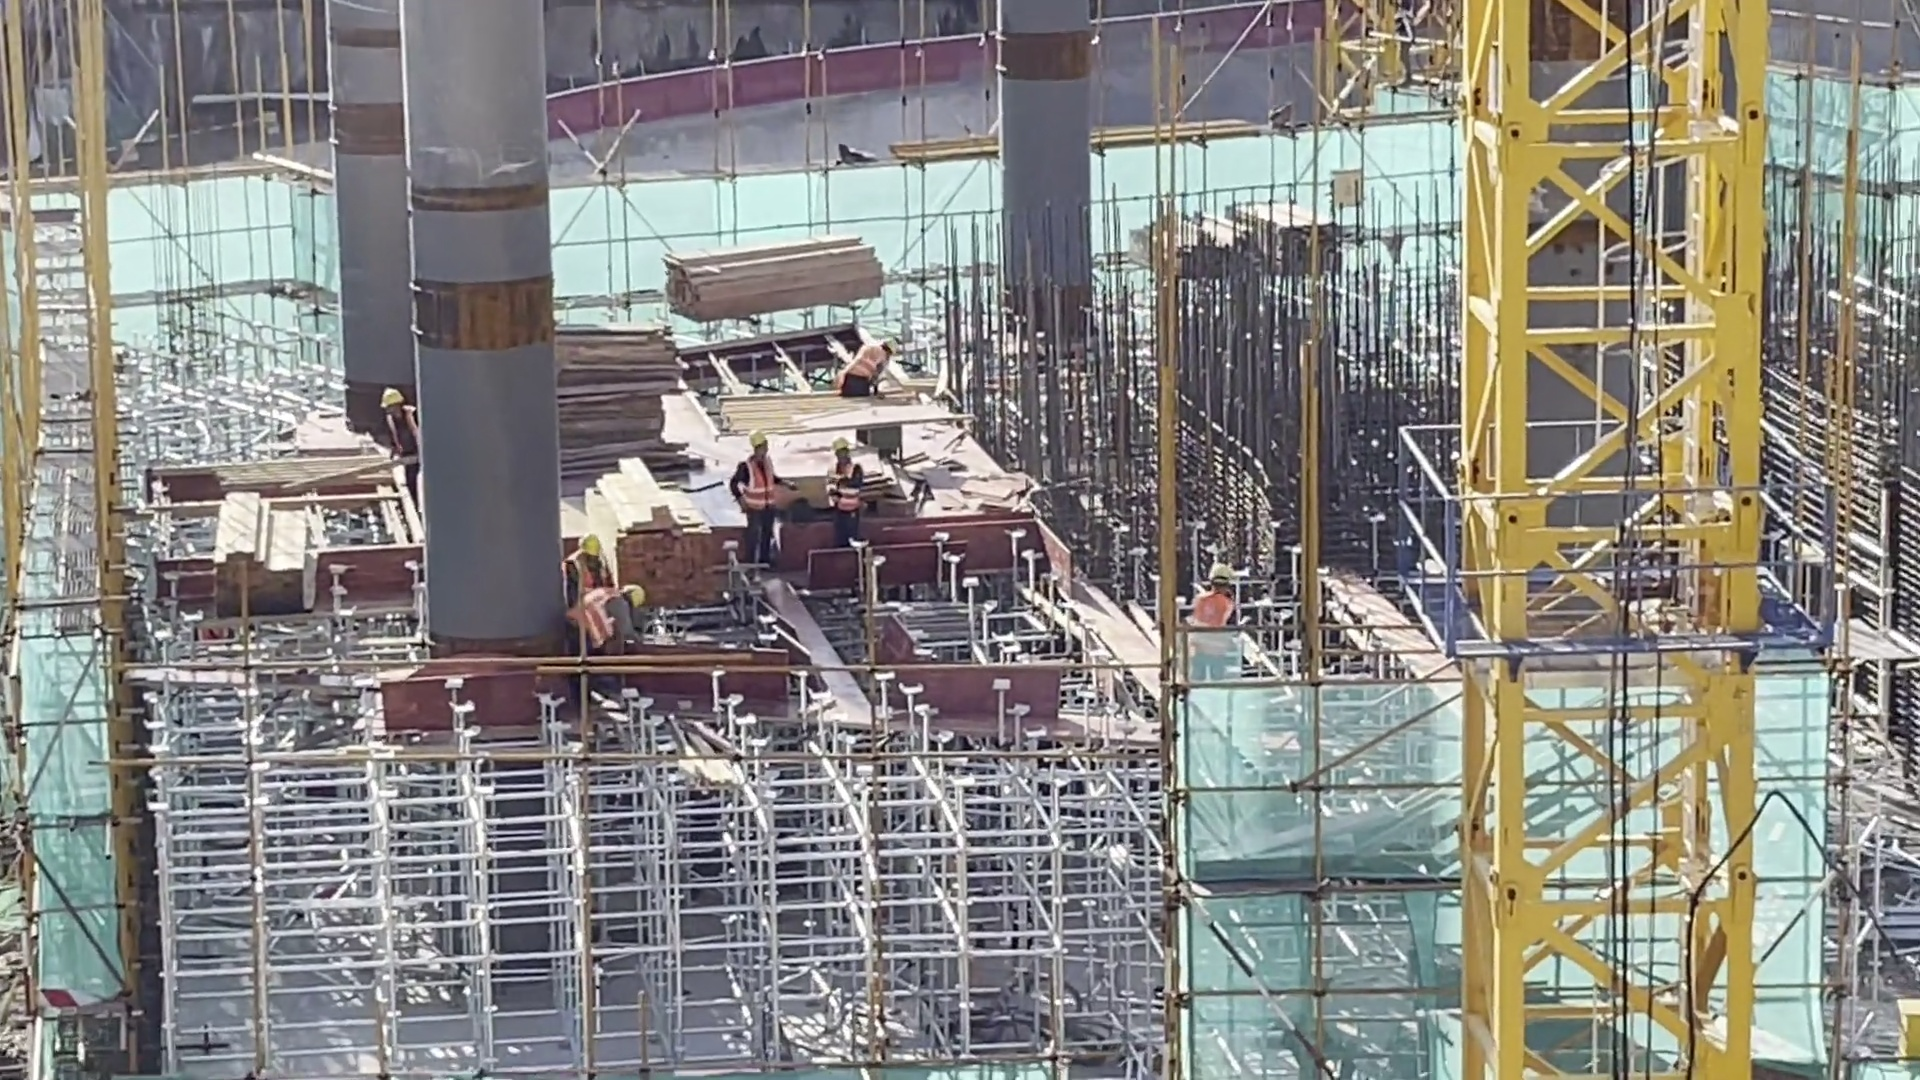cutter: (797, 395, 966, 449)
helmet: (622, 582, 647, 609), (578, 533, 604, 556), (1206, 563, 1232, 584), (746, 428, 769, 451), (381, 387, 405, 407), (829, 438, 847, 455)
person: (734, 425, 782, 569), (573, 585, 643, 665), (1189, 564, 1240, 666), (822, 435, 865, 547), (377, 387, 415, 484), (837, 338, 899, 393), (568, 533, 609, 607)
vest: (737, 453, 774, 511), (574, 591, 612, 645), (1195, 592, 1236, 633), (844, 343, 888, 379), (828, 468, 862, 513)
wood: (543, 320, 692, 485), (658, 227, 880, 319), (590, 469, 712, 617), (209, 489, 315, 622)
